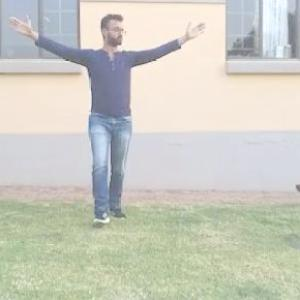takeoff: (6, 0, 212, 228)
